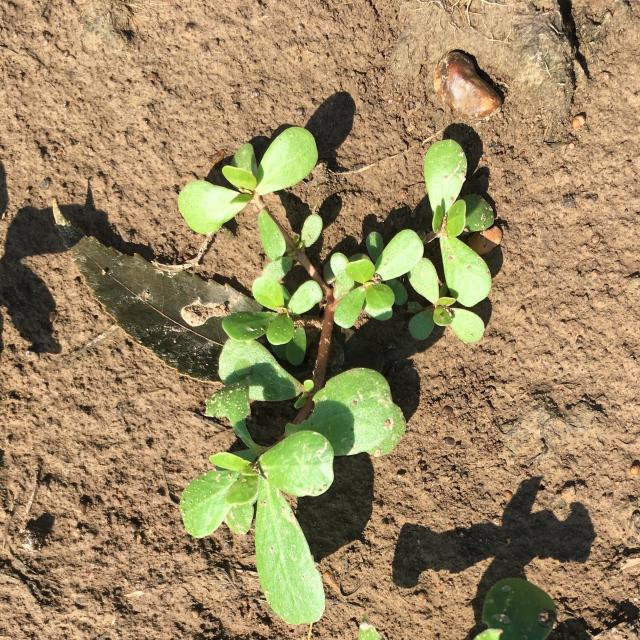Purslane: (177, 127, 495, 626)
